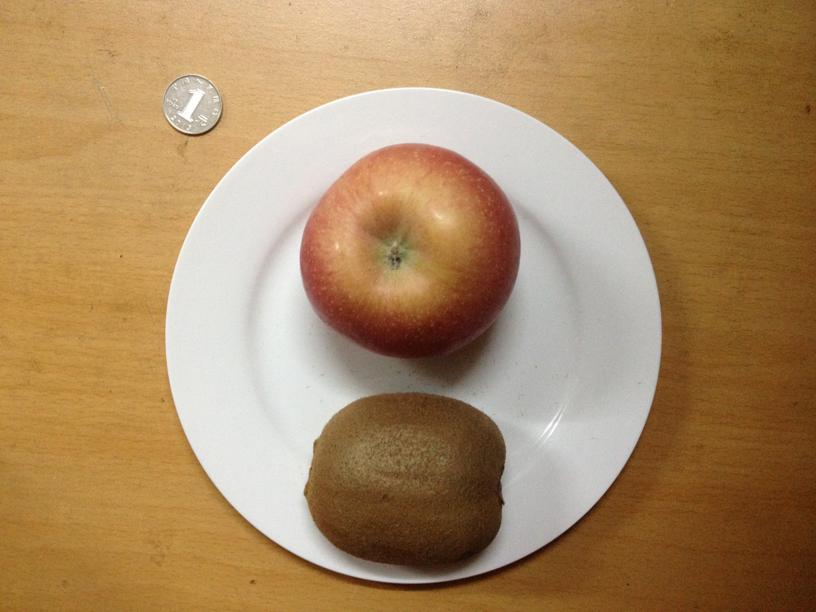apple: (300, 144, 521, 361)
coin: (162, 75, 222, 135)
qiwi: (301, 395, 504, 561)
